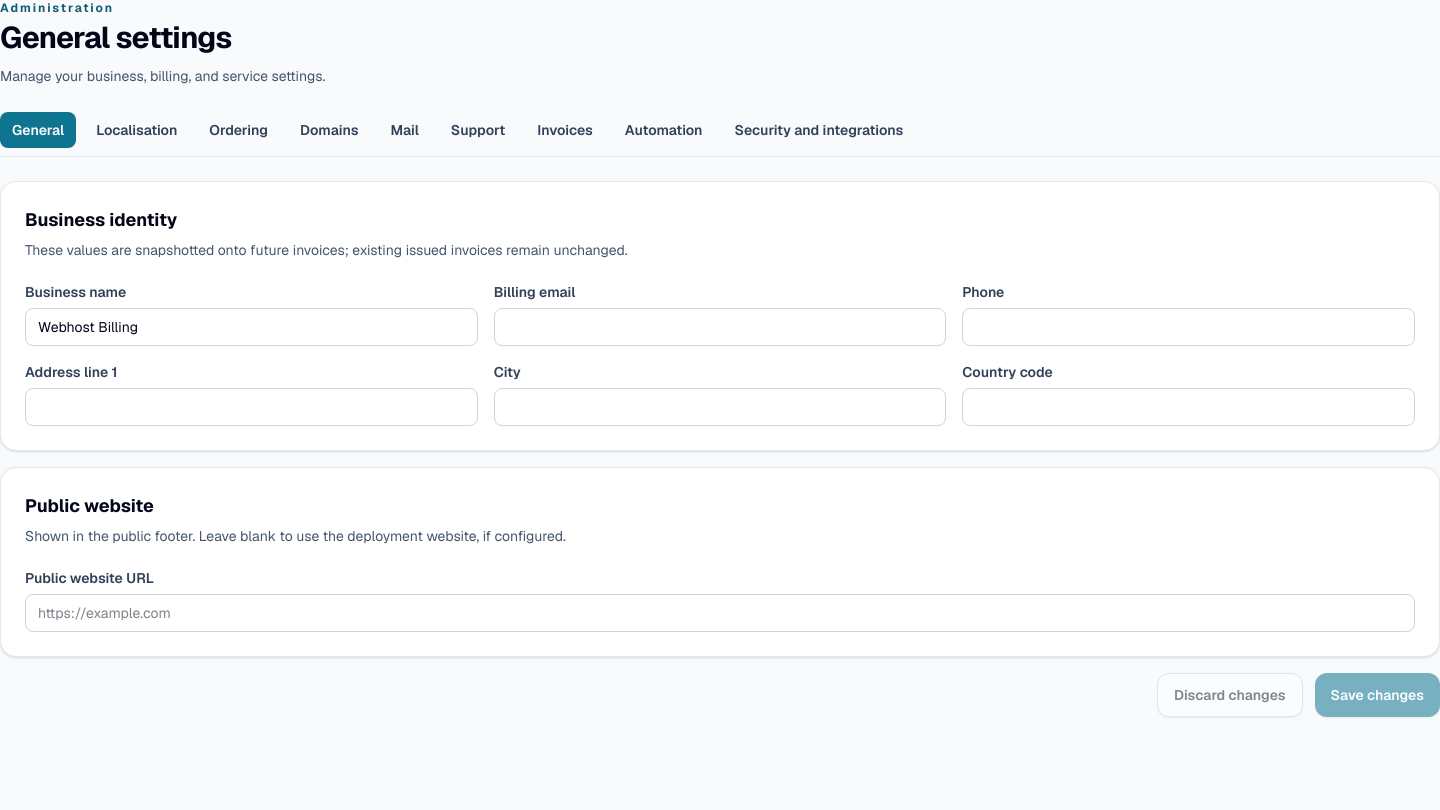
Test: settings manager › retains the draft and persisted baseline on failure, then allows a successful retry
The width and height of the screenshot is (1440, 810).
Click the tab "Invoices". click: (565, 130)
box: left=525, top=112, right=605, bottom=148
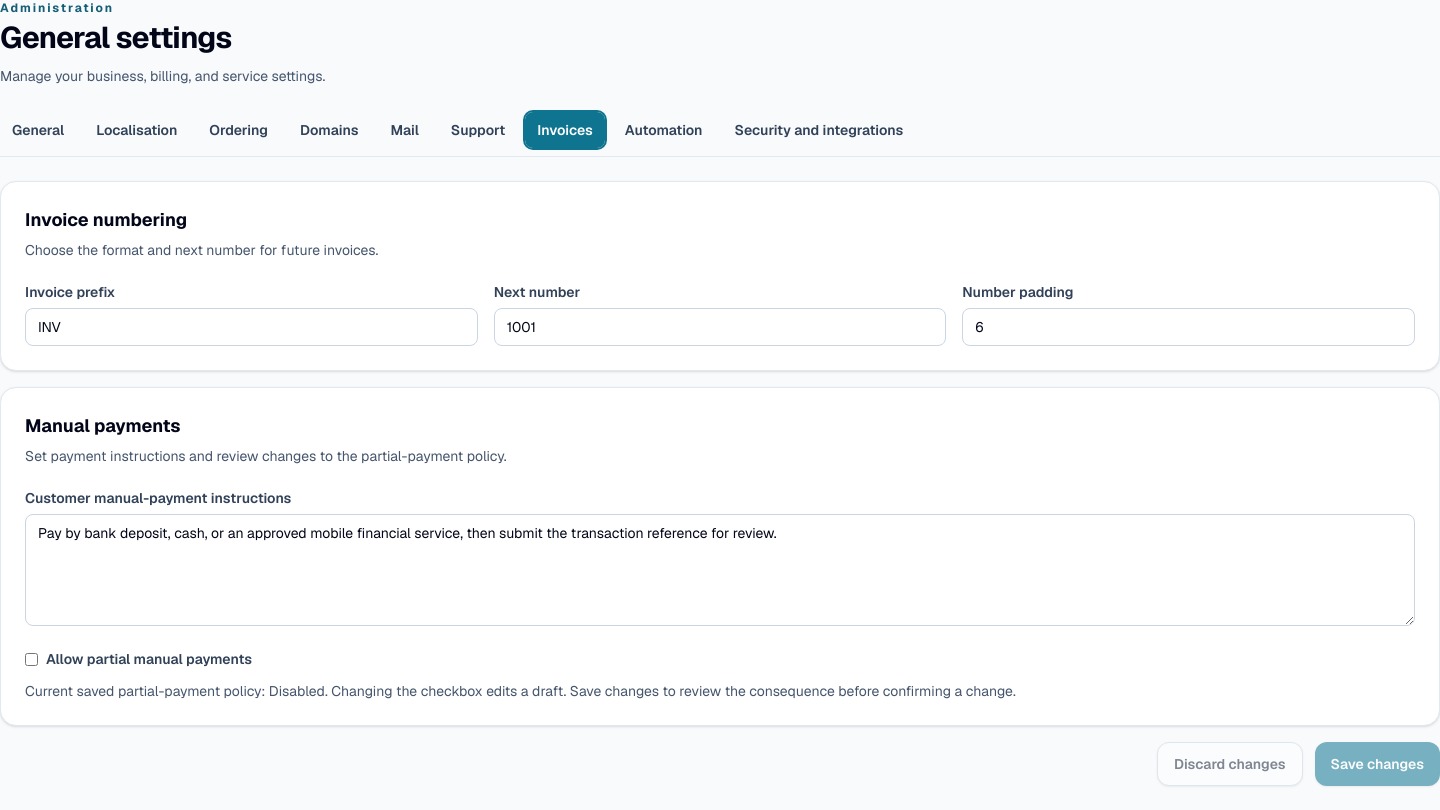
Click the checkbox labelled "Allow partial manual payments". click: (32, 659)
box: left=25, top=652, right=38, bottom=666
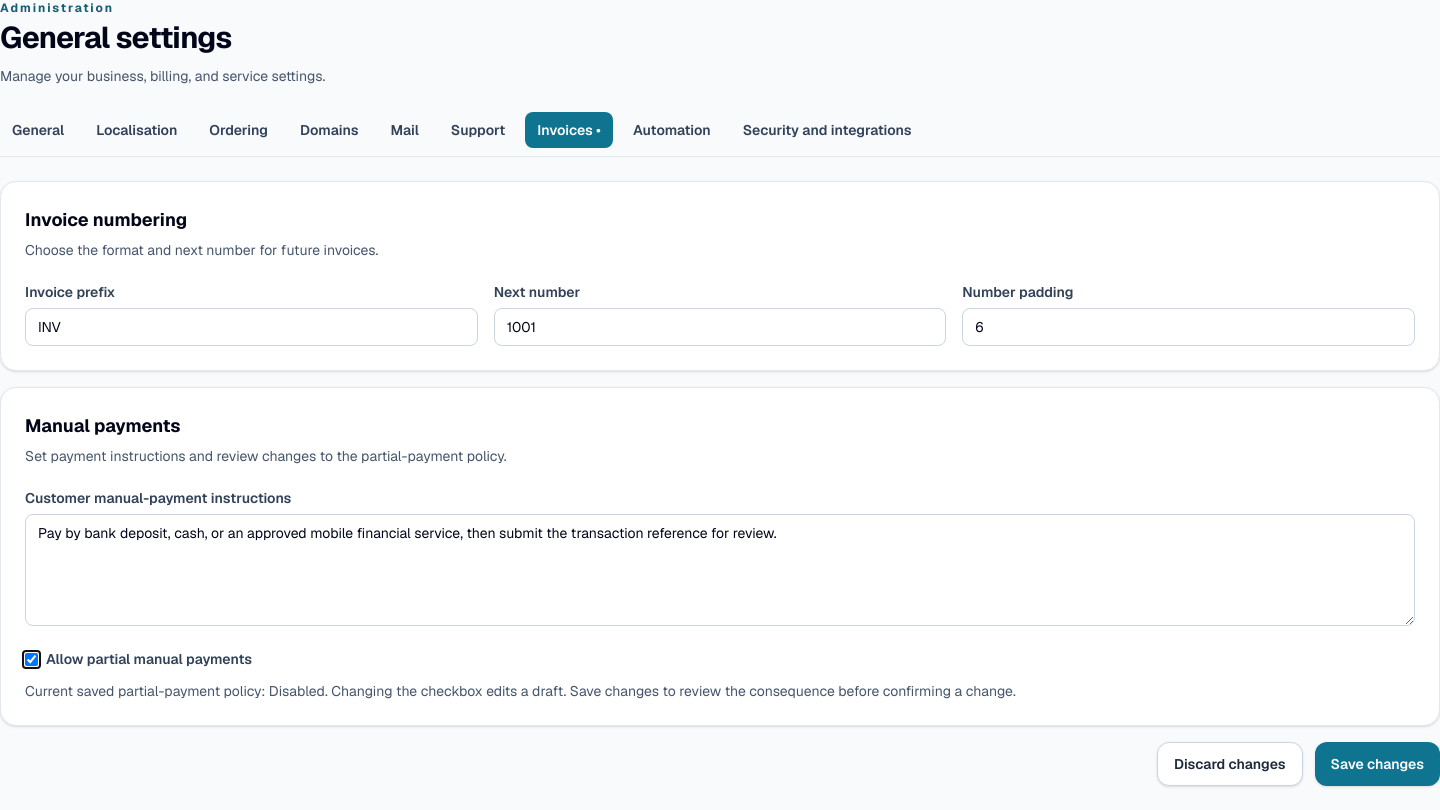
Click the button "Save changes". click: (1377, 764)
box: left=1314, top=742, right=1439, bottom=786
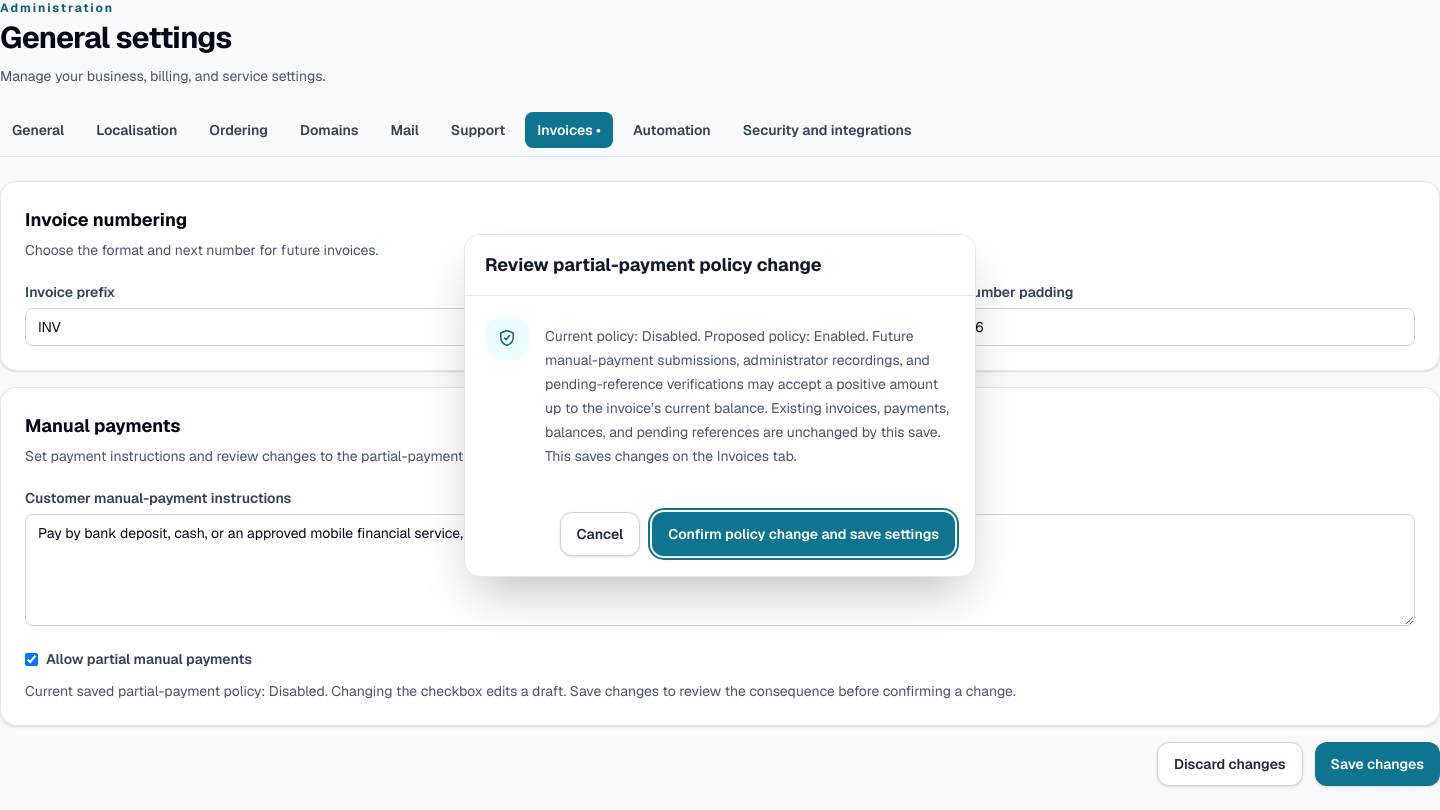
Click the button "Confirm policy change and save settings". click: (804, 534)
box: left=652, top=512, right=955, bottom=556
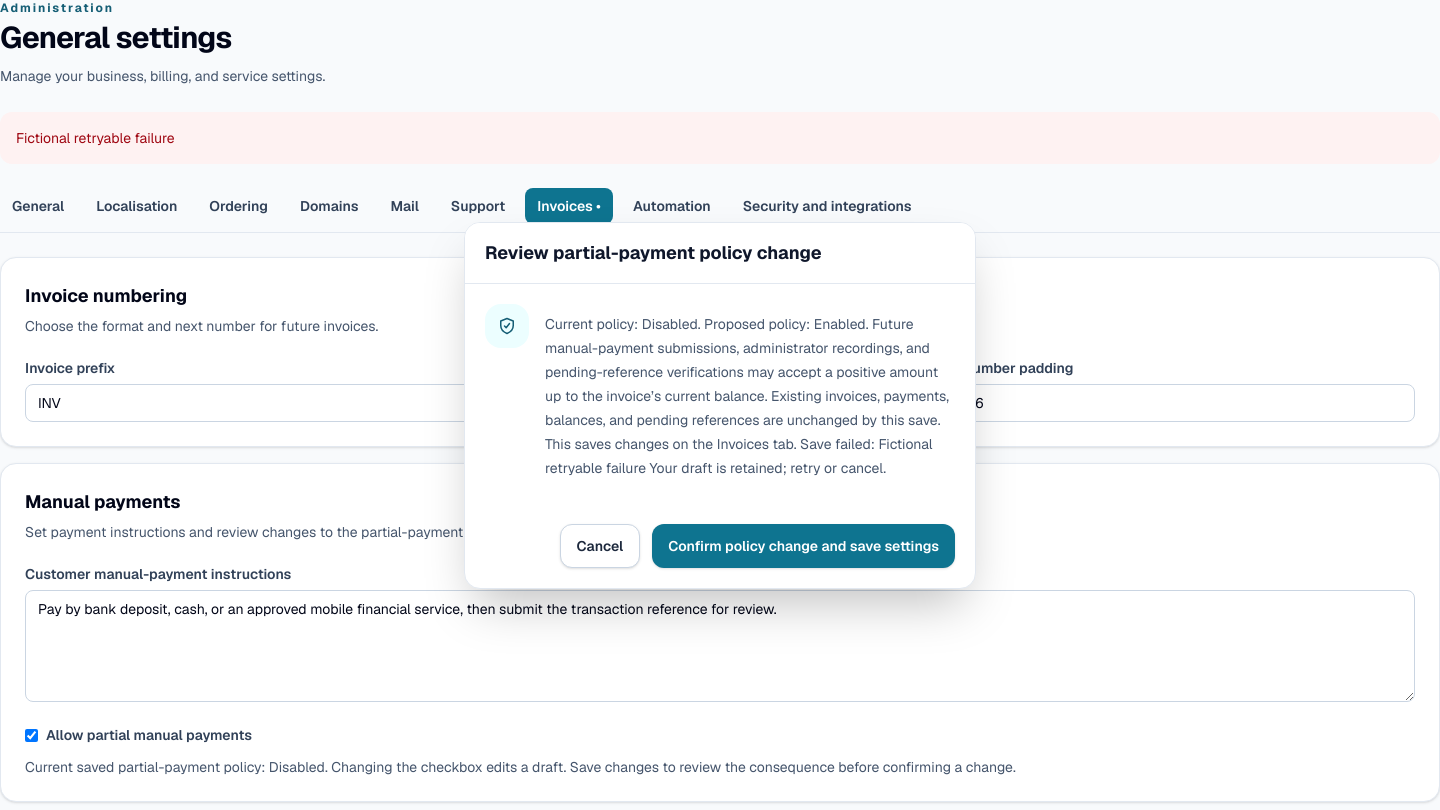
Now the text "Current saved partial-payment policy: Disabled" is shown, box left=25, top=758, right=1016, bottom=776
Now the dialog shows "Save failed: Fictional retryable failure", box left=545, top=314, right=949, bottom=476
Click the button "Confirm policy change and save settings". click: (804, 546)
box: left=652, top=524, right=955, bottom=568
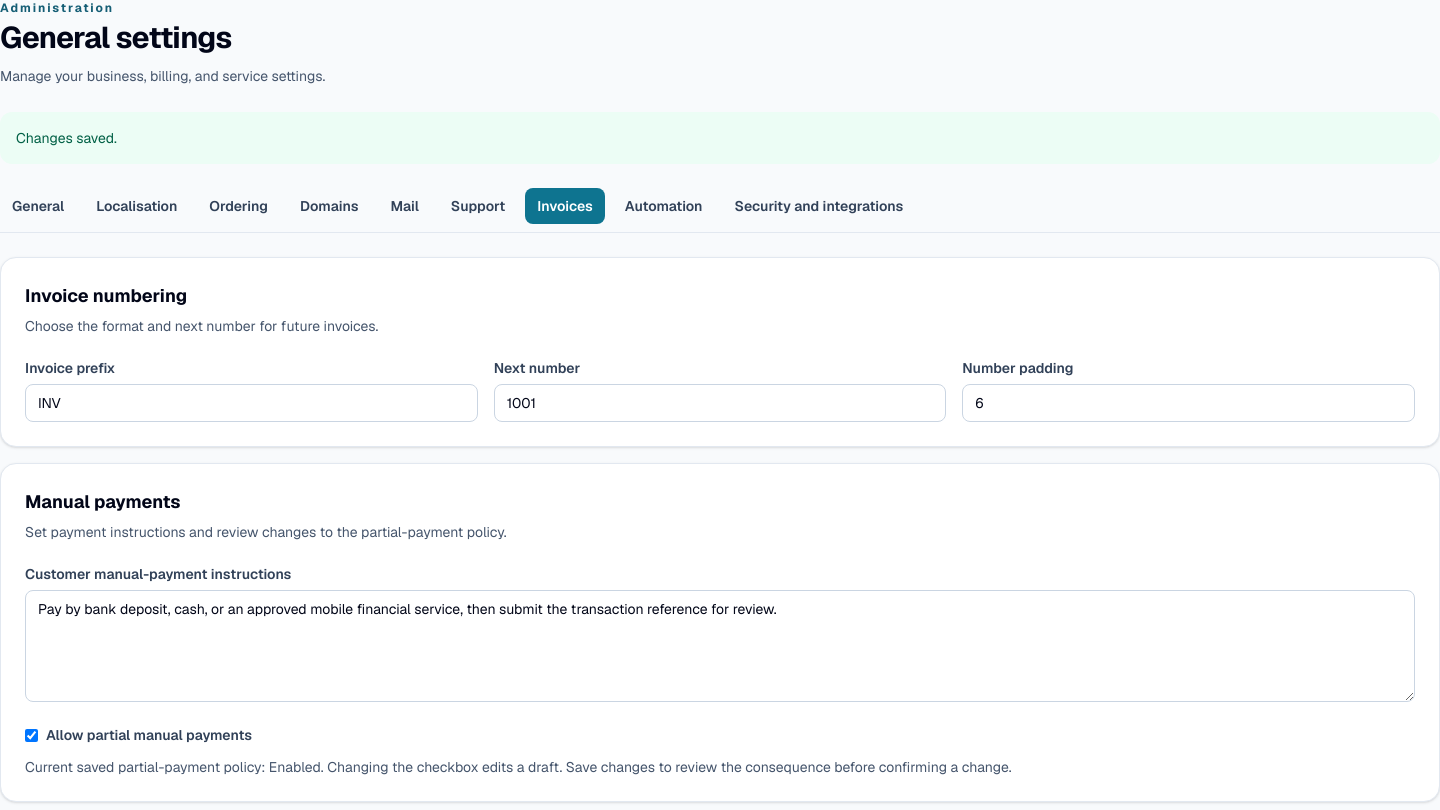
Now the message "Changes saved." is shown, box left=0, top=112, right=1439, bottom=164
Now the dialog is gone
Now the text "Current saved partial-payment policy: Enabled" is shown, box left=25, top=758, right=1012, bottom=776
